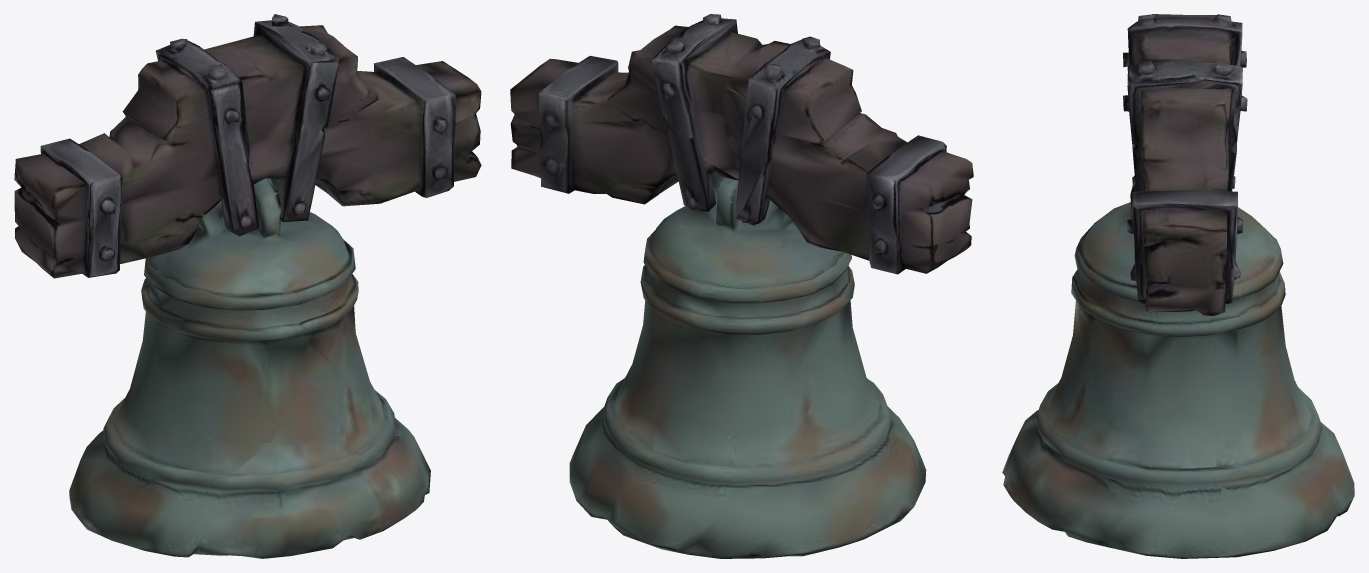
The model's file is cloister_bell.glb.
3 renders of one model, left to right at view 1: azimuth 30°, elevation 25°; view 2: azimuth 150°, elevation 25°; view 3: azimuth 270°, elevation 25°, orthographic.
Visible parts, largest first — view 1: cloister_bell; view 2: cloister_bell; view 3: cloister_bell.
Boxes of the visible parts, bbox=[...] form: cloister_bell: bbox=[14, 14, 481, 558]; cloister_bell: bbox=[510, 14, 973, 558]; cloister_bell: bbox=[1002, 14, 1354, 558].
Size of the model in its own units: 3.03 by 3.4 by 2.15.
Materials: 1 (1 with a texture image).
